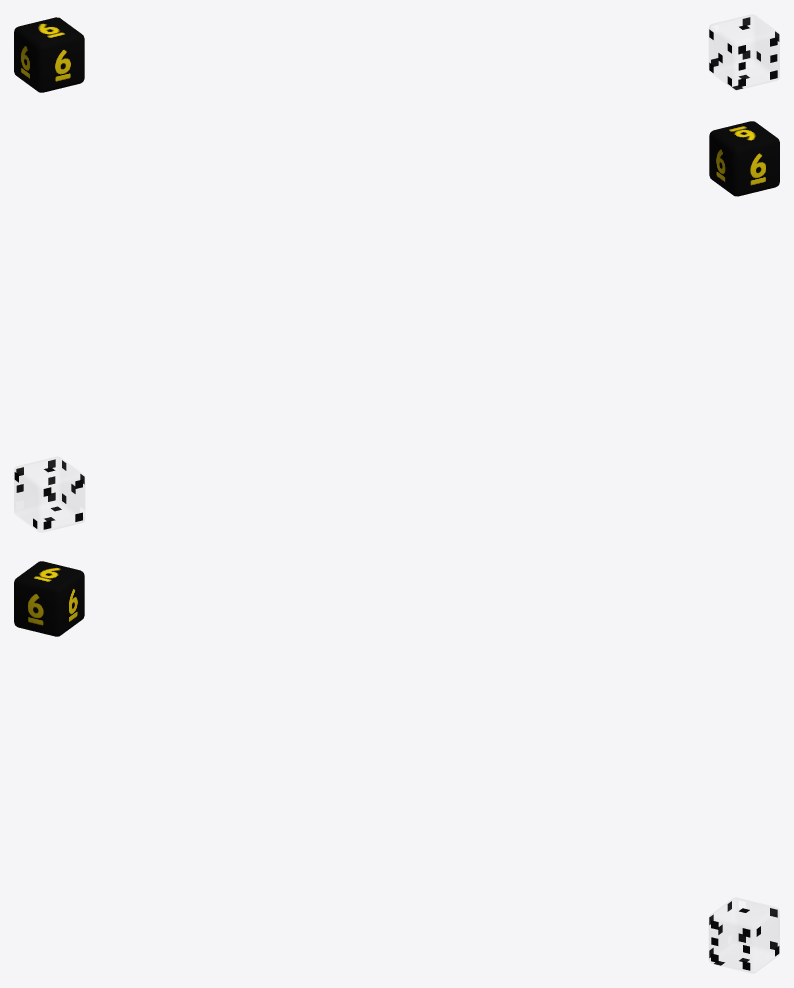
The model's file is Reflec_Black 6.fbx.
The picture shows the model from 3 angles, top to bottom: view 1: azimuth 30°, elevation 25°; view 2: azimuth 210°, elevation 25°; view 3: azimuth 330°, elevation 25°; orthographic projection.
Visible parts, largest first — view 1: Phniox.002, Glass.001; view 2: Phniox.002, Glass.001; view 3: Phniox.002, Glass.001.
Part boxes in pixels (x1=…): Phniox.002: x1=14, y1=17, x2=84, y2=92; Glass.001: x1=709, y1=15, x2=779, y2=90; Phniox.002: x1=709, y1=121, x2=779, y2=196; Glass.001: x1=14, y1=457, x2=84, y2=531; Phniox.002: x1=14, y1=561, x2=84, y2=636; Glass.001: x1=709, y1=898, x2=779, y2=972.
Bounding box in the file's own units: 3130 × 871 × 203.
